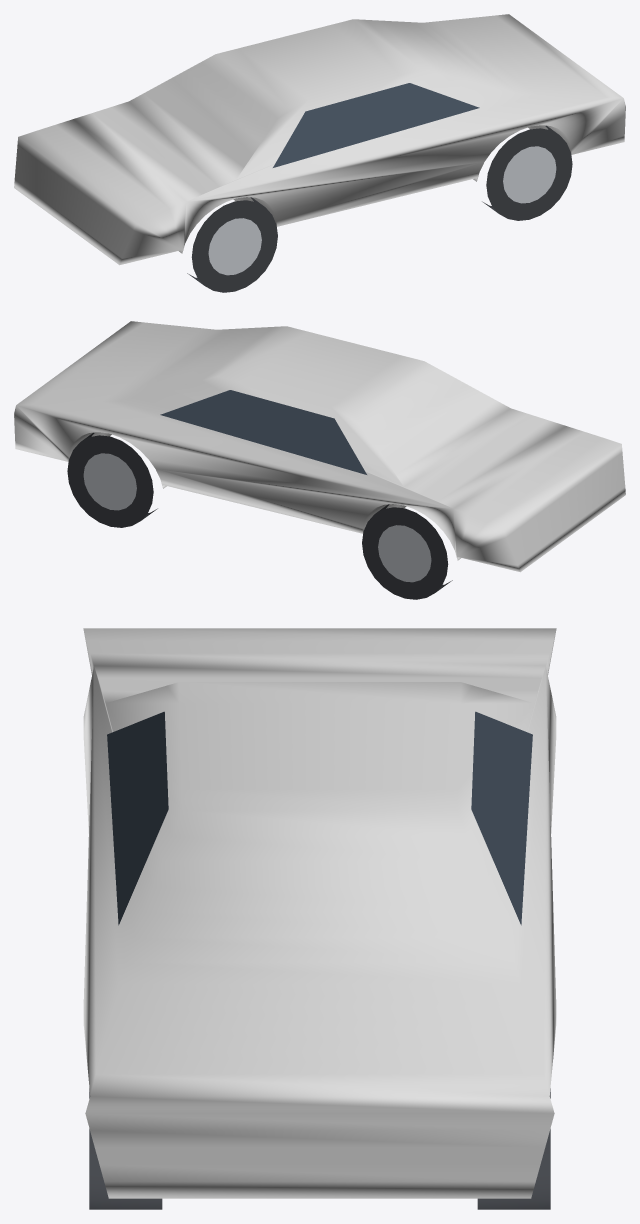
Rendered from kaiser_r34.glb.
3 renders of one model, top to bottom at view 1: azimuth 30°, elevation 25°; view 2: azimuth 150°, elevation 25°; view 3: azimuth 270°, elevation 25°, orthographic. The views are drawn at different scales.
Parts seen in each view (by area): view 1: Car; view 2: Car; view 3: Car.
Part boxes in pixels (x1,y1,x2,y2): Car: [14, 14, 625, 292]; Car: [14, 321, 625, 599]; Car: [83, 628, 556, 1209].
Size of the model in its own units: 3.84 by 1.12 by 1.56.
